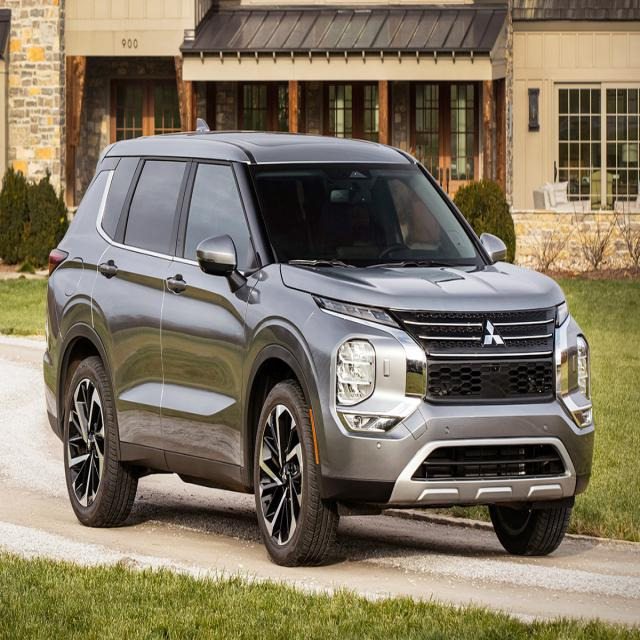light_vehicle: (41, 128, 596, 567)
